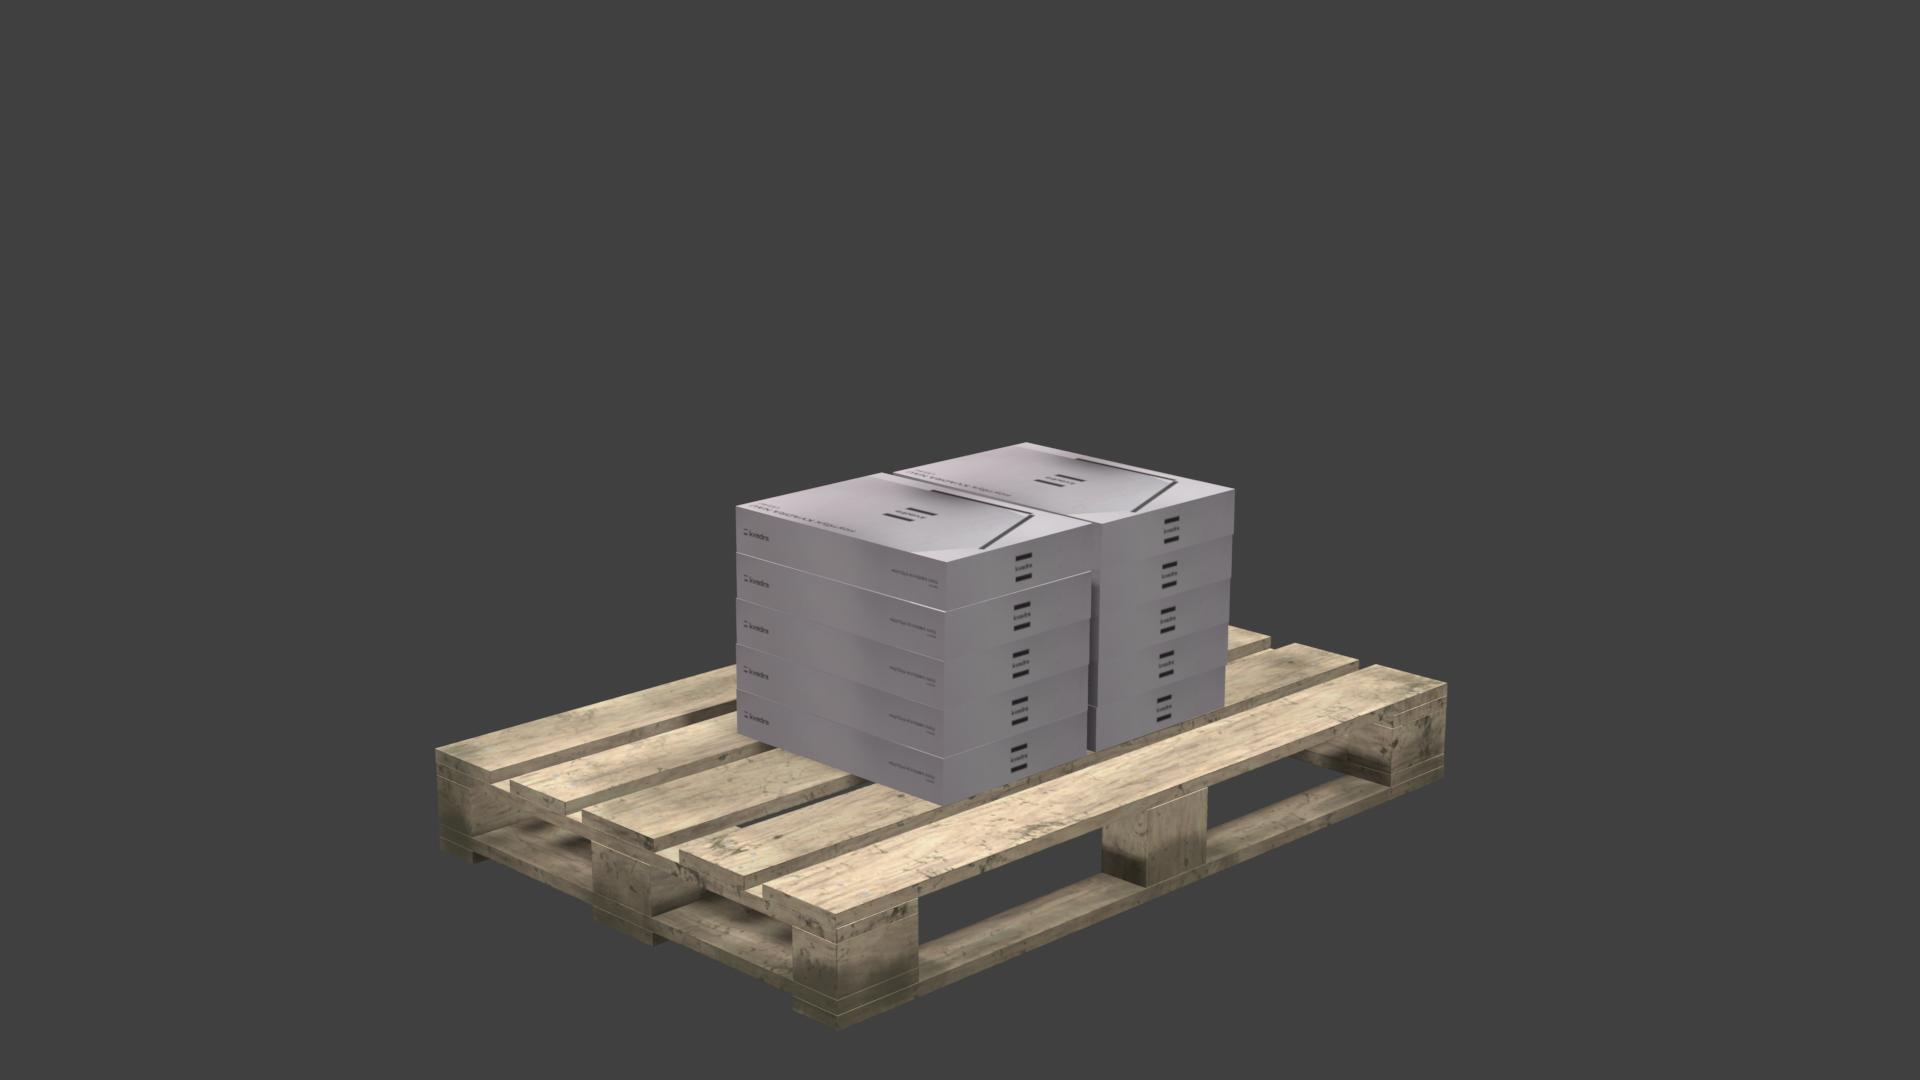laptop_left: (737, 690, 943, 806), (736, 644, 943, 758), (737, 599, 944, 709), (736, 553, 944, 661), (736, 506, 947, 612), (943, 709, 1087, 807), (944, 665, 1088, 758), (944, 618, 1089, 709), (944, 571, 1091, 661), (947, 524, 1092, 611), (1095, 665, 1226, 753), (1100, 534, 1233, 618), (1098, 622, 1229, 708), (1098, 579, 1230, 663), (1101, 489, 1236, 571)
laptop_top: (737, 472, 1092, 563), (894, 442, 1236, 524)
palet: (435, 624, 1449, 1034)
